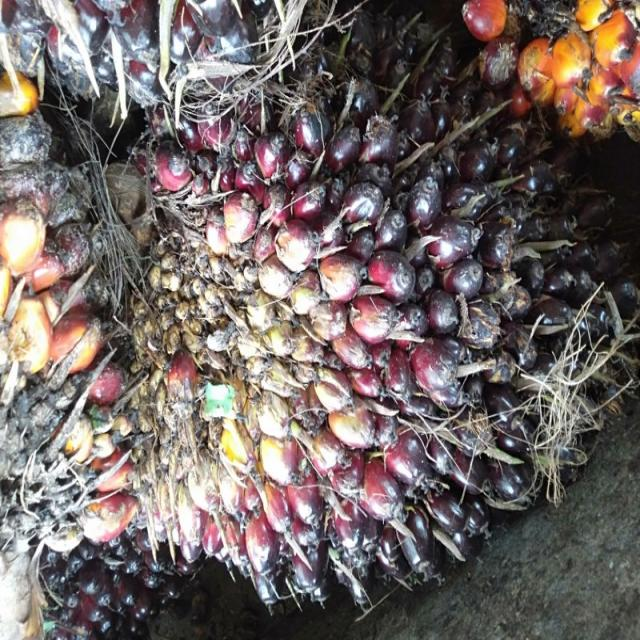fraksi 00: (141, 27, 608, 592)
